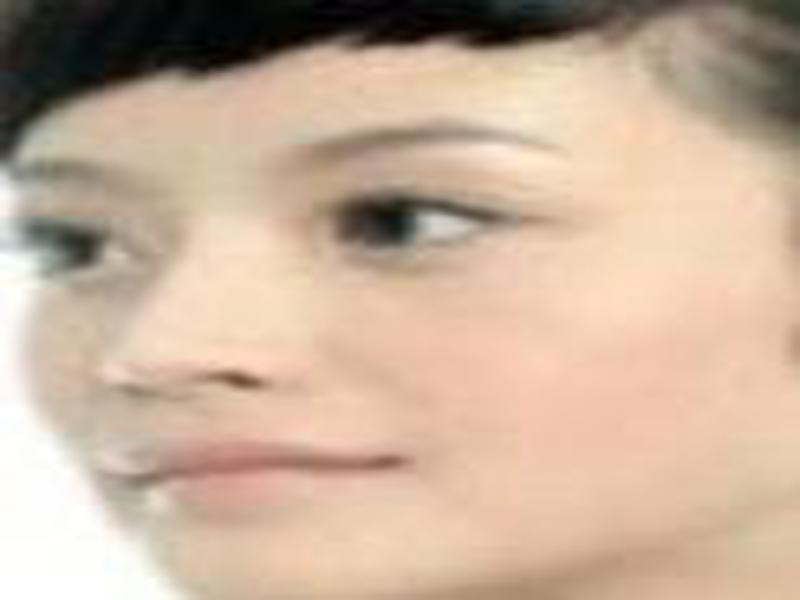without_mask: (6, 40, 738, 587)
